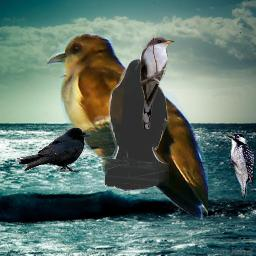Crow: (105, 59, 169, 192), (17, 127, 91, 172)
Cuckoo: (47, 33, 208, 223), (139, 36, 175, 129)
Woodpecker: (226, 133, 254, 199)
